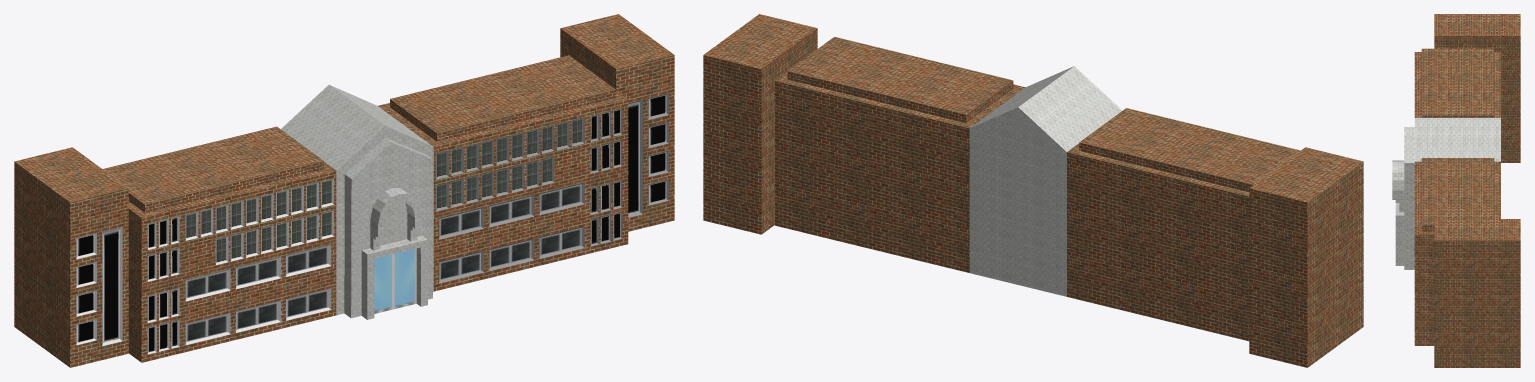
Rendered from school.FBX.
3 renders of one model, left to right at view 1: azimuth 30°, elevation 25°; view 2: azimuth 150°, elevation 25°; view 3: azimuth 270°, elevation 25°, orthographic. The views are drawn at different scales.
Visible parts, largest first — view 1: School; view 2: School; view 3: School.
Part boxes in pixels (x1,y1,x2,y2): School: (14, 14, 674, 367); School: (703, 14, 1363, 367); School: (1392, 14, 1520, 367).
Size of the model in its own units: 177 by 49.78 by 42.3.
11 materials, 9 textured.
